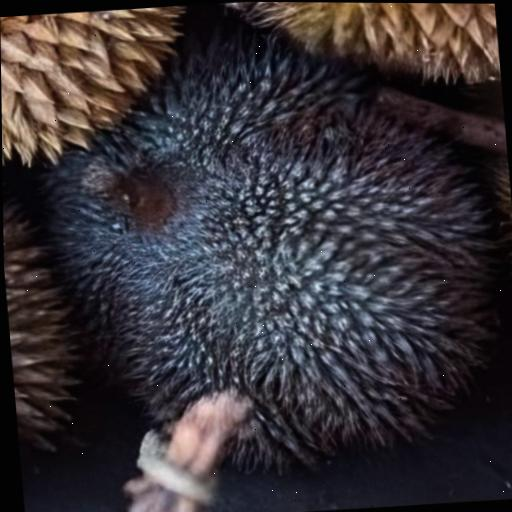rot: (14, 0, 512, 512)
